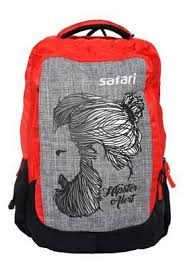backpack: (8, 19, 175, 253)
